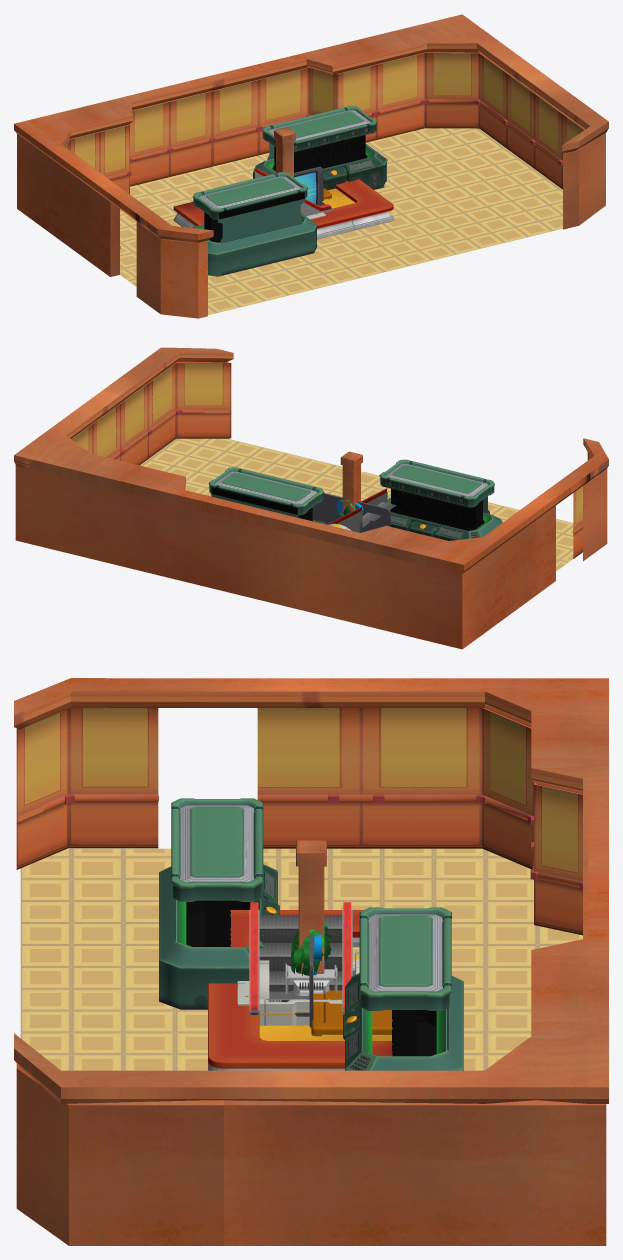
3 views of the same model, one above another, from view 1: azimuth 30°, elevation 25°; view 2: azimuth 150°, elevation 25°; view 3: azimuth 270°, elevation 25° (orthographic). The views are drawn at different scales.
Visible parts, largest first — view 1: SM_RO_005_Wall_01_3, polySurface4, SM_RO_005_Wall_01_0, SM_D_006_MainPC_01_0 (×2), SM_RO_005_Beam_01_0, SM_RO_005_Counter_01_0, SM_C_001_ComPillar_01_03_1, SM_RO_005_Escalator_05; view 2: SM_RO_005_Wall_01_0, SM_RO_005_Beam_01_0, SM_RO_005_Wall_01_3, SM_D_006_MainPC_01_0 (×2), polySurface4, SM_RO_005_Machine_04_1_group1, SM_RO_005_Escalator_05, SM_C_001_ComPillar_01_03_1; view 3: SM_RO_005_Wall_01_0, SM_RO_005_Wall_01_3, polySurface4, SM_RO_005_Beam_01_0, SM_D_006_MainPC_01_0 (×2), SM_RO_005_Counter_01_0, SM_RO_005_Escalator_05, SM_C_001_ComPillar_01_03_1, SM_RO_005_Machine_01_0, SM_RO_005_Machine_02_0, SM_C_001_Implant_01_0, SM_C_001_Table_12_0 (+1 smaller).
Part boxes in pixels (x1,y1,x2,y2): SM_RO_005_Wall_01_3: [61, 43, 590, 238]; polySurface4: [120, 128, 562, 314]; SM_RO_005_Wall_01_0: [17, 52, 605, 318]; SM_D_006_MainPC_01_0 (×2): [192, 106, 387, 276]; SM_RO_005_Beam_01_0: [14, 14, 608, 242]; SM_RO_005_Counter_01_0: [173, 179, 394, 239]; SM_C_001_ComPillar_01_03_1: [274, 131, 295, 177]; SM_RO_005_Escalator_05: [255, 168, 333, 216]; SM_RO_005_Wall_01_0: [15, 361, 607, 649]; SM_RO_005_Beam_01_0: [14, 347, 608, 574]; SM_RO_005_Wall_01_3: [14, 352, 608, 558]; SM_D_006_MainPC_01_0 (×2): [208, 459, 502, 540]; polySurface4: [140, 438, 573, 571]; SM_RO_005_Machine_04_1_group1: [312, 493, 390, 531]; SM_RO_005_Escalator_05: [327, 488, 396, 532]; SM_C_001_ComPillar_01_03_1: [340, 455, 362, 515]; SM_RO_005_Wall_01_0: [16, 708, 606, 1245]; SM_RO_005_Wall_01_3: [14, 691, 582, 935]; polySurface4: [20, 848, 582, 1070]; SM_RO_005_Beam_01_0: [14, 678, 608, 1103]; SM_D_006_MainPC_01_0 (×2): [159, 798, 463, 1070]; SM_RO_005_Counter_01_0: [208, 910, 392, 1070]; SM_RO_005_Escalator_05: [249, 902, 352, 1016]; SM_C_001_ComPillar_01_03_1: [296, 853, 326, 973]; SM_RO_005_Machine_01_0: [237, 952, 359, 1025]; SM_RO_005_Machine_02_0: [285, 963, 337, 995]; SM_C_001_Implant_01_0: [291, 923, 331, 979]; SM_C_001_Table_12_0: [311, 990, 392, 1036].
Size of the model in its own units: 18.74 by 3.91 by 11.51.
22 materials, 22 textured.
